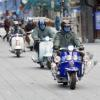motorcycles: (51, 46, 90, 91), (34, 38, 55, 66), (8, 34, 26, 58)
